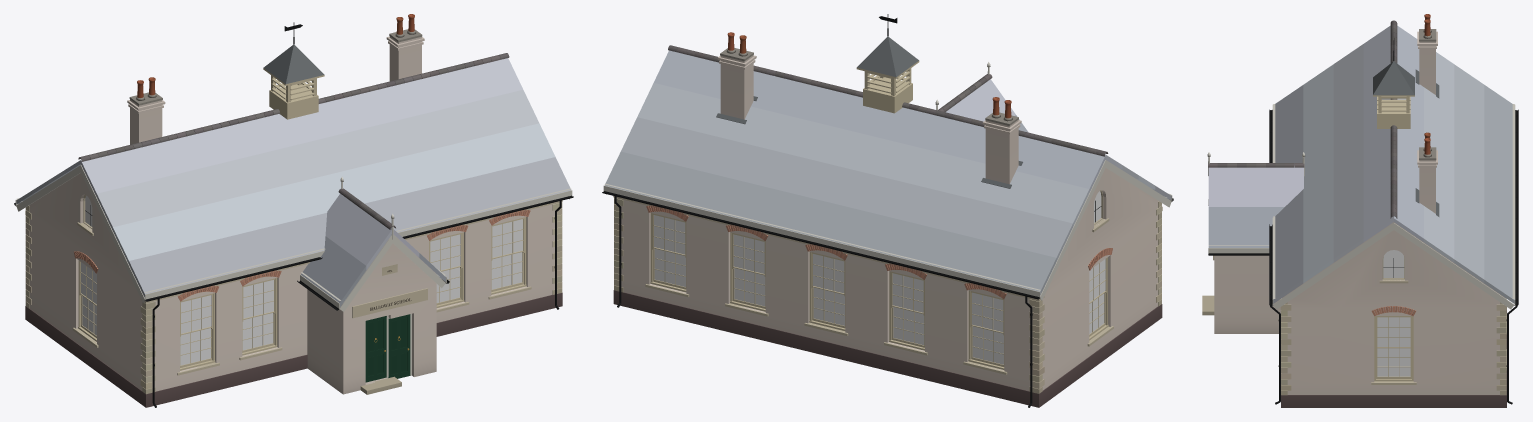
Rendered from town_school_a.glb.
3 views of the same model, side by side, from view 1: azimuth 30°, elevation 25°; view 2: azimuth 150°, elevation 25°; view 3: azimuth 270°, elevation 25° (orthographic). The views are drawn at different scales.
Parts seen in each view (by area): view 1: body; view 2: body; view 3: body.
Part boxes in pixels (x1,y1,x2,y2): body: [14, 14, 573, 407]; body: [602, 14, 1173, 407]; body: [1202, 14, 1518, 407].
Size of what is drawn, in the model's own units: 16.47 by 10.7 by 11.27.
